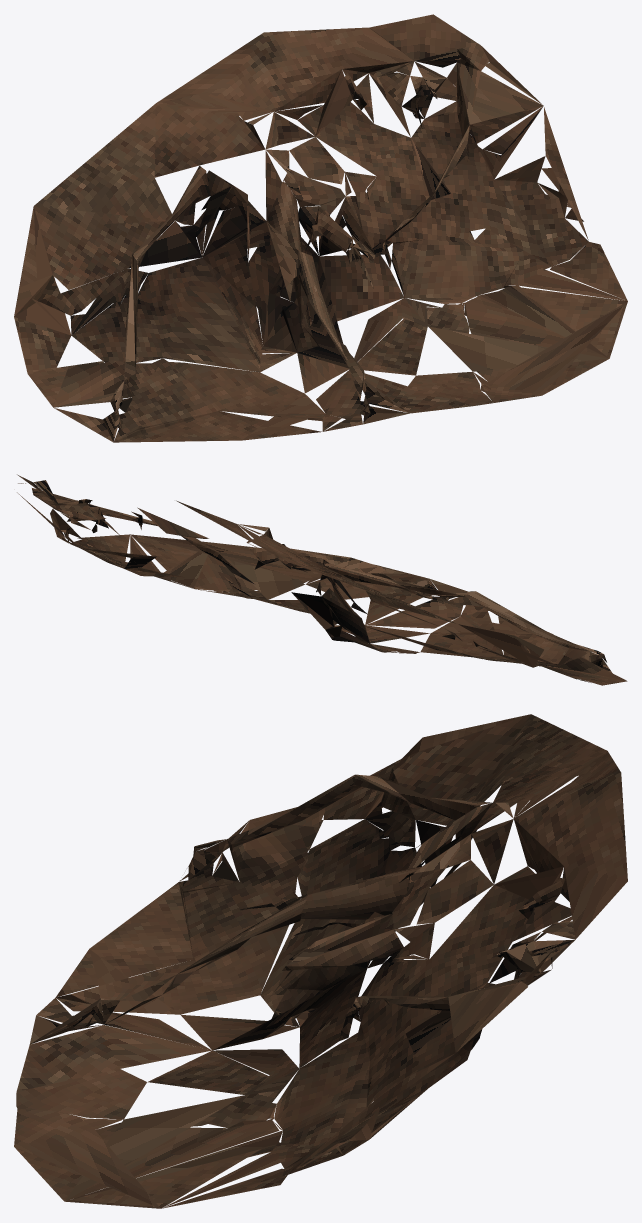
File: root_cluster_01.glb
3 renders of one model, top to bottom at view 1: azimuth 30°, elevation 25°; view 2: azimuth 150°, elevation 25°; view 3: azimuth 270°, elevation 25°, orthographic. The views are drawn at different scales.
Visible parts, largest first — view 1: root_cluster_01; view 2: root_cluster_01; view 3: root_cluster_01.
Part boxes in pixels (bbox=[...]): root_cluster_01: bbox=[14, 14, 627, 442]; root_cluster_01: bbox=[17, 474, 627, 685]; root_cluster_01: bbox=[14, 714, 627, 1208].
Size of the model in its own units: 4.04 by 1.56 by 2.65.
1 material, 1 textured.
